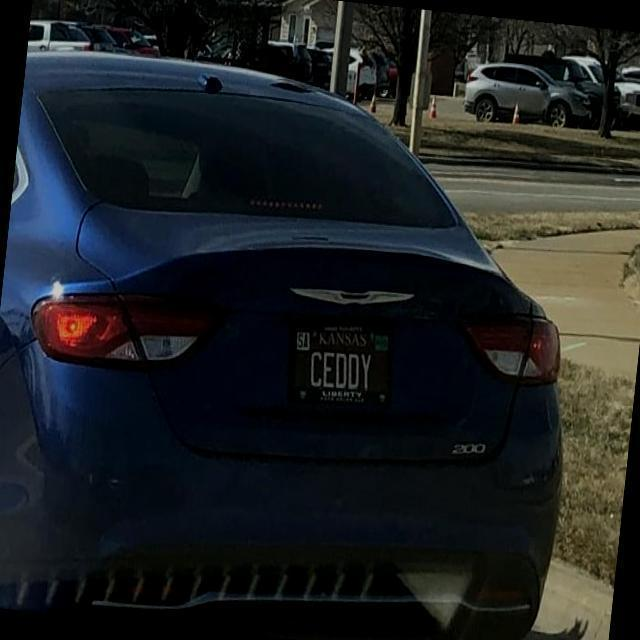license-plate: (275, 327, 404, 411)
